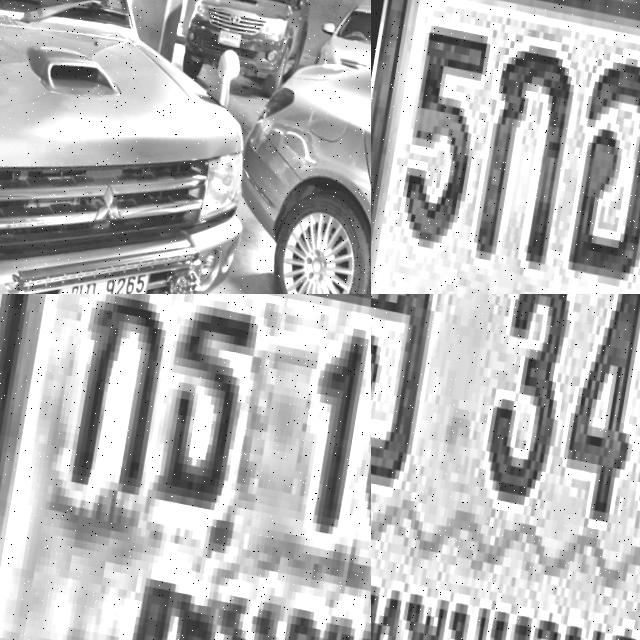license-plate: (0, 294, 371, 640), (371, 294, 640, 640), (371, 0, 640, 294), (47, 239, 158, 294)
